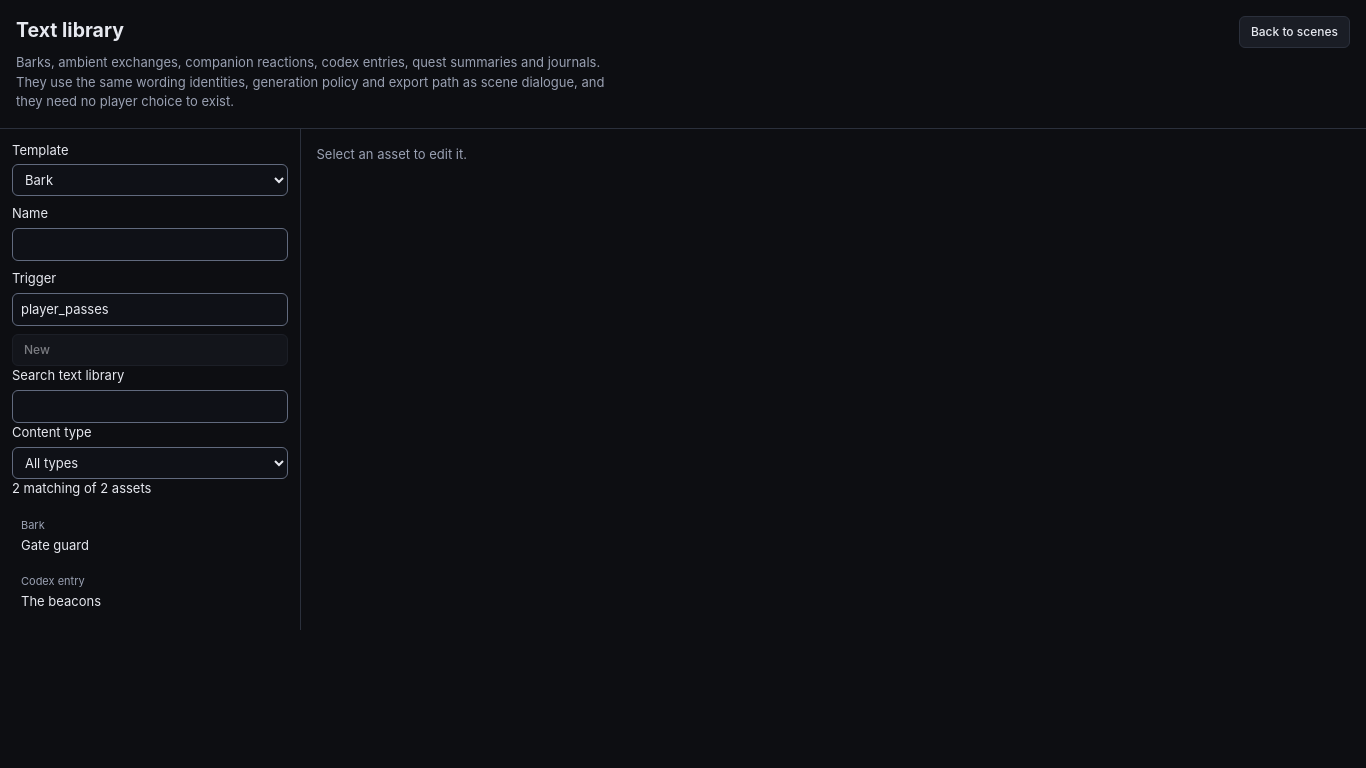
Test: the Text library › names a listed asset the editor cannot open
Click the button "Bark Gate guard": (55,545) [12,510,288,562]
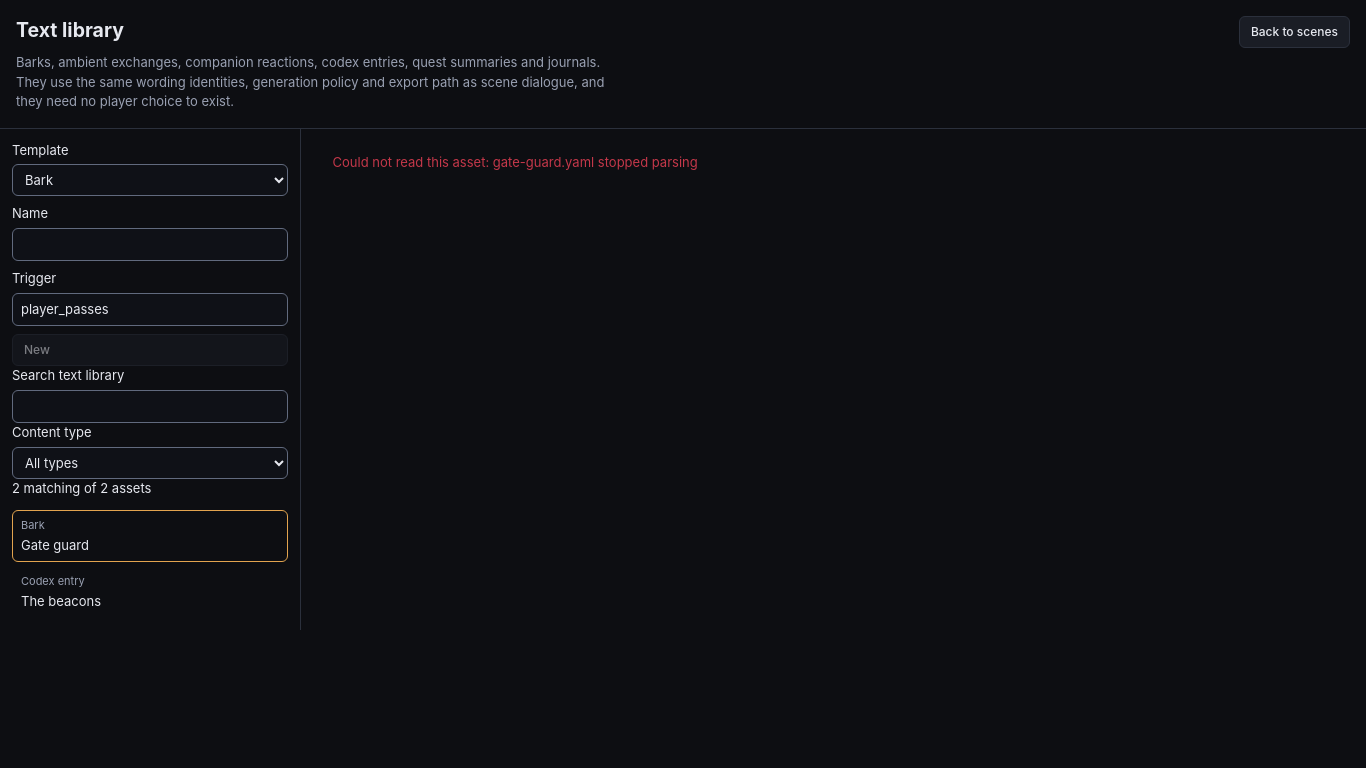
Check: the message "Could not read this asset: gate-guard.yaml stopped parsing" is shown, box [332,154,698,170]
Check: the text "Select an asset to edit it." is gone
